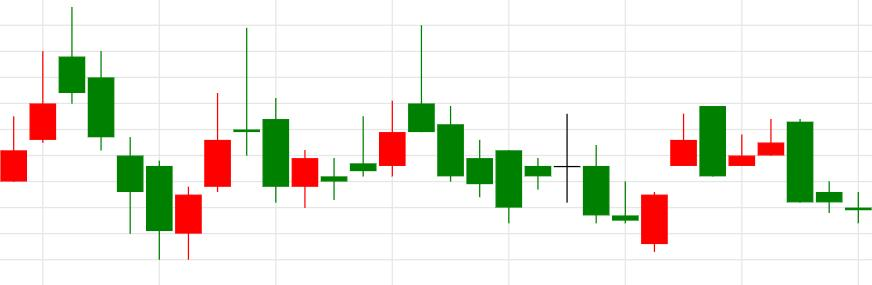evening_star_fall: (145, 26, 290, 259)
shooting_star_fall: (292, 24, 435, 207), (0, 6, 86, 182)
